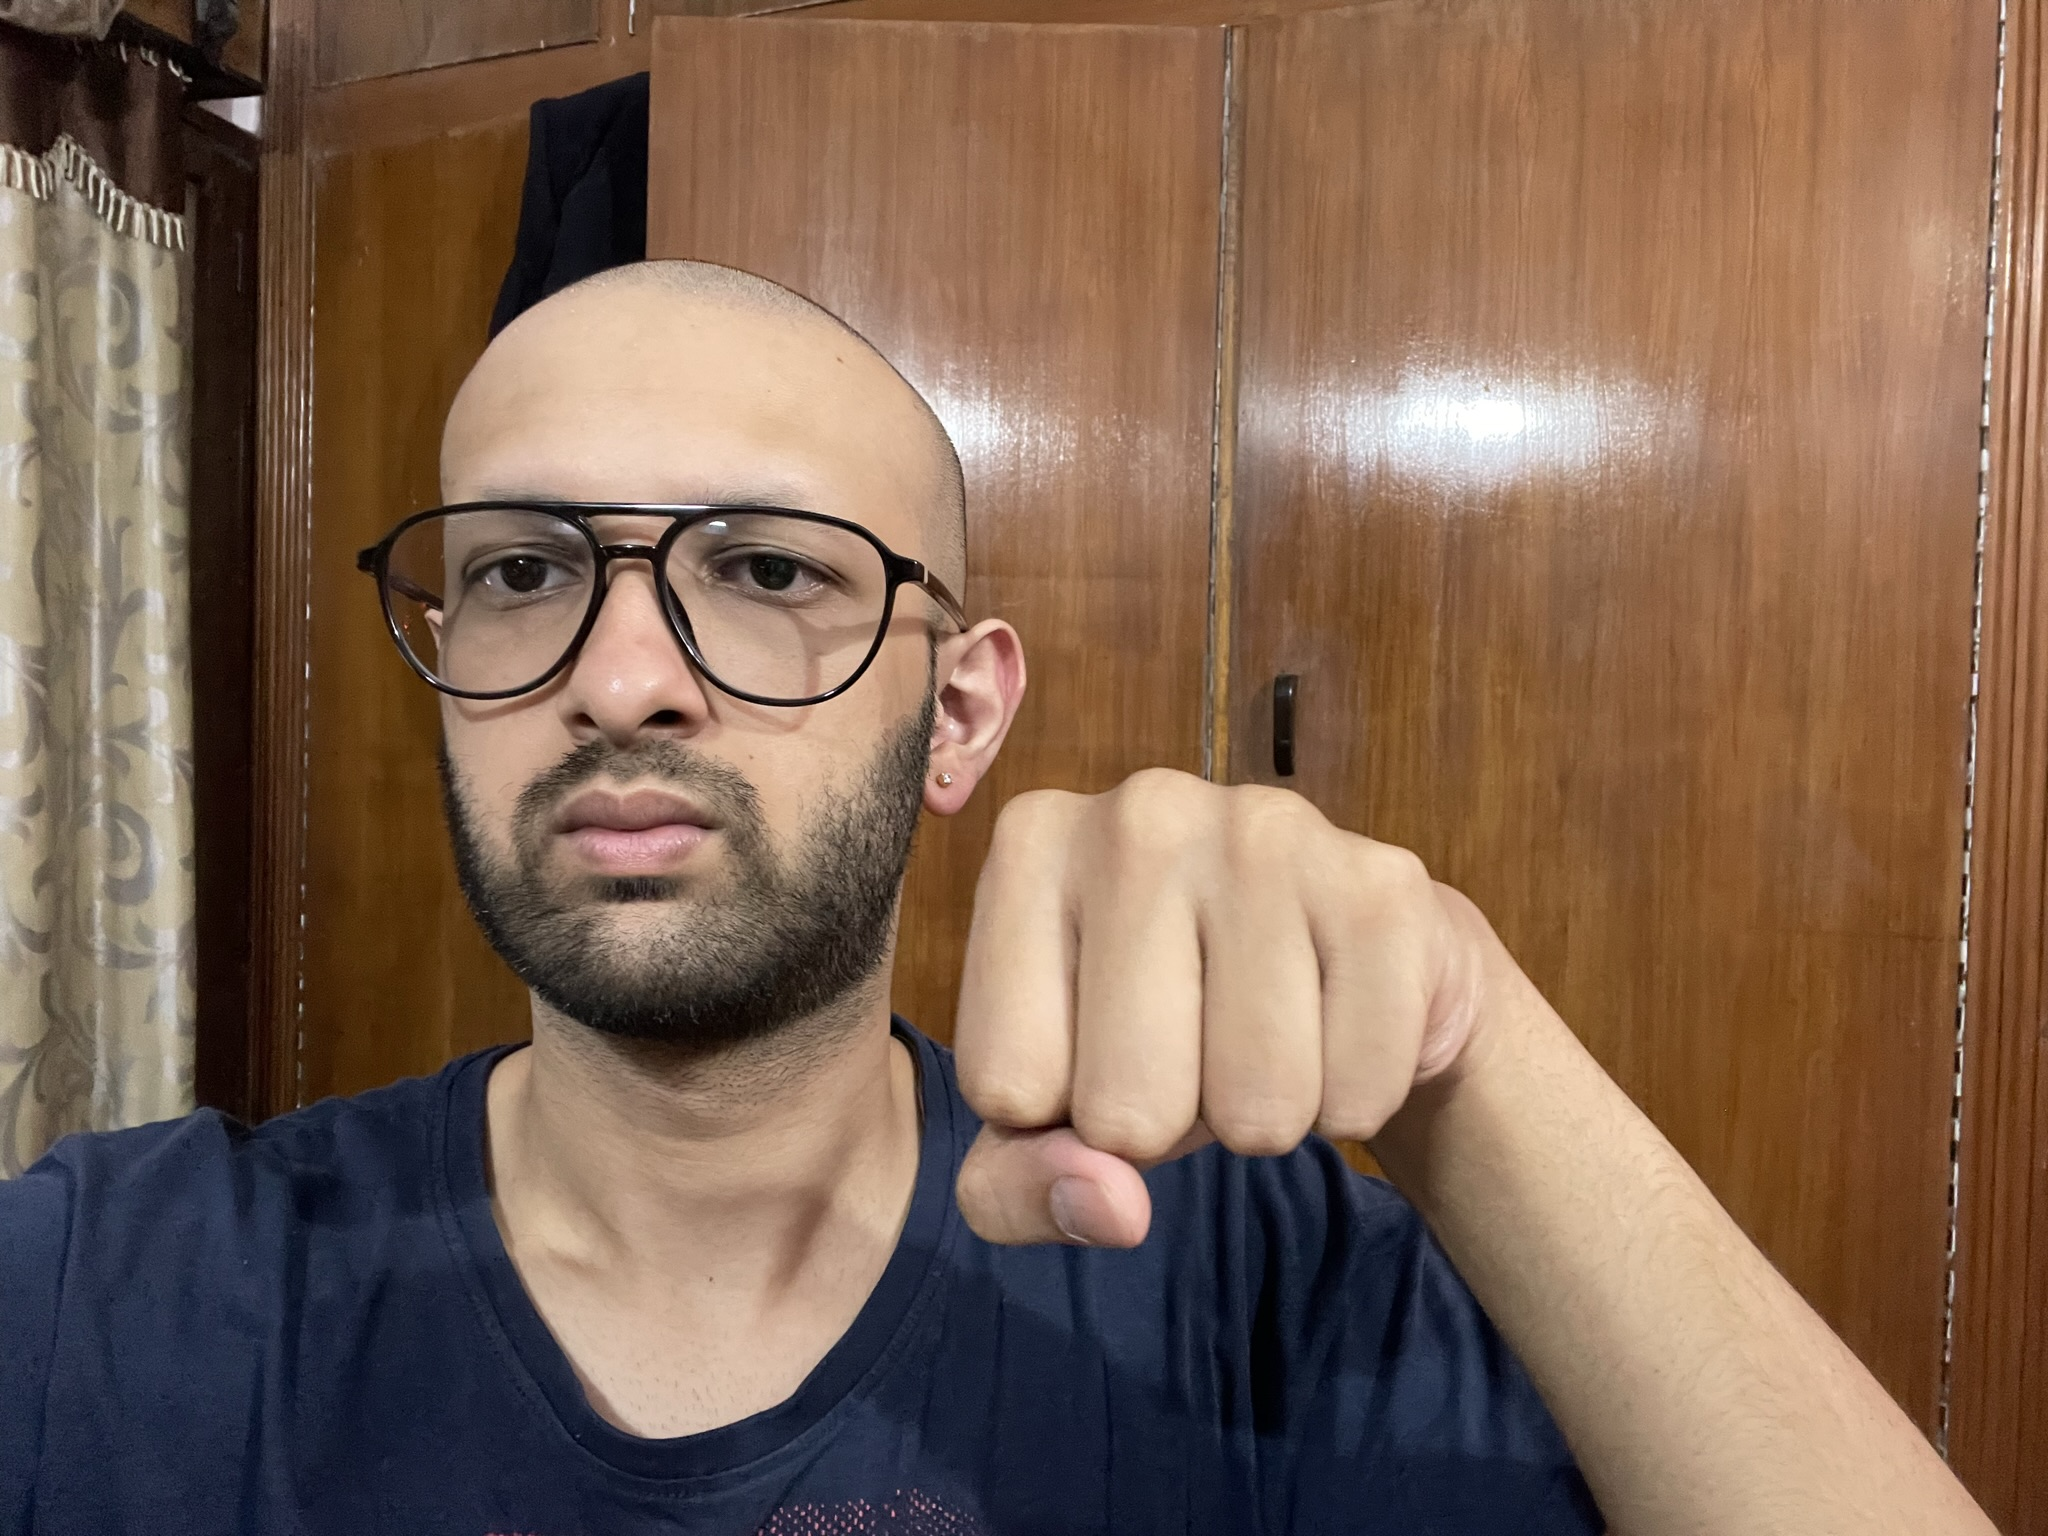Yes: (943, 749, 1492, 1260)
